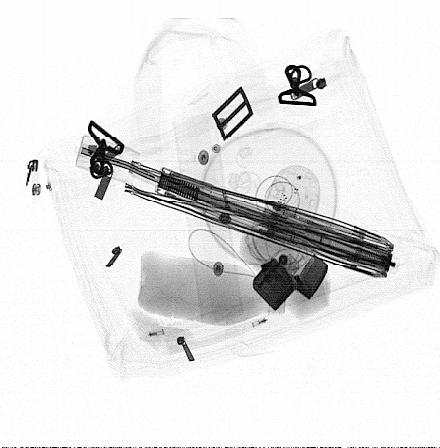Lighter: (252, 252, 329, 312)
